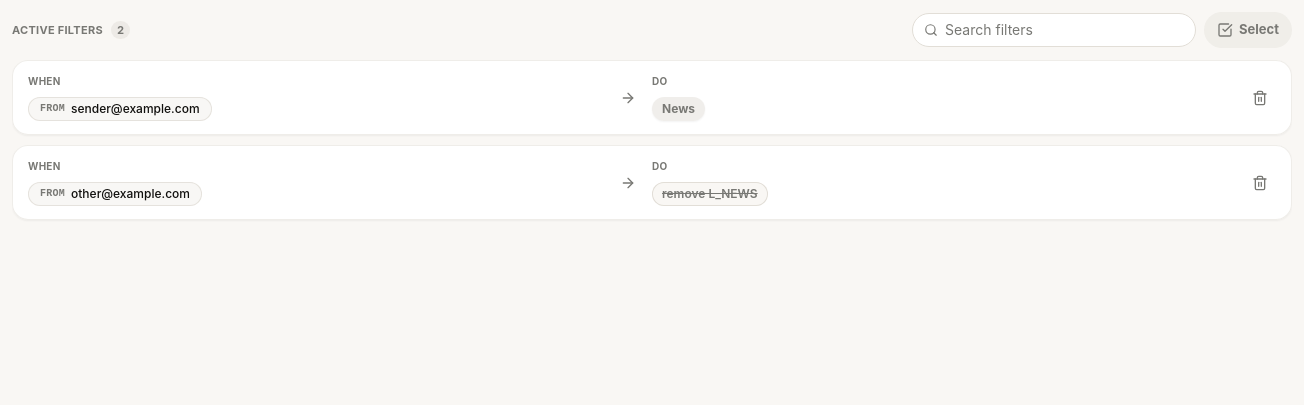
the confirmation step › a selection the algebra rejects can't be confirmed at all
The image size is (1304, 405).
Click the button with aria-label "Enter select mode". click: click(1248, 30)
box: x1=1204 y1=12 x2=1292 y2=48
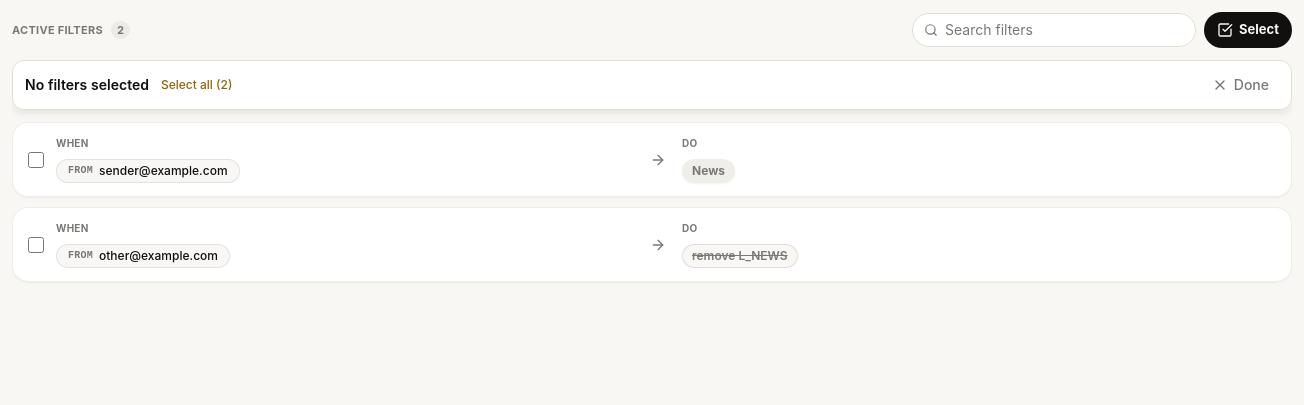
Click the checkbox named "Select filter" in the row of "sender@example.com". click: click(36, 160)
box: x1=28 y1=152 x2=44 y2=168
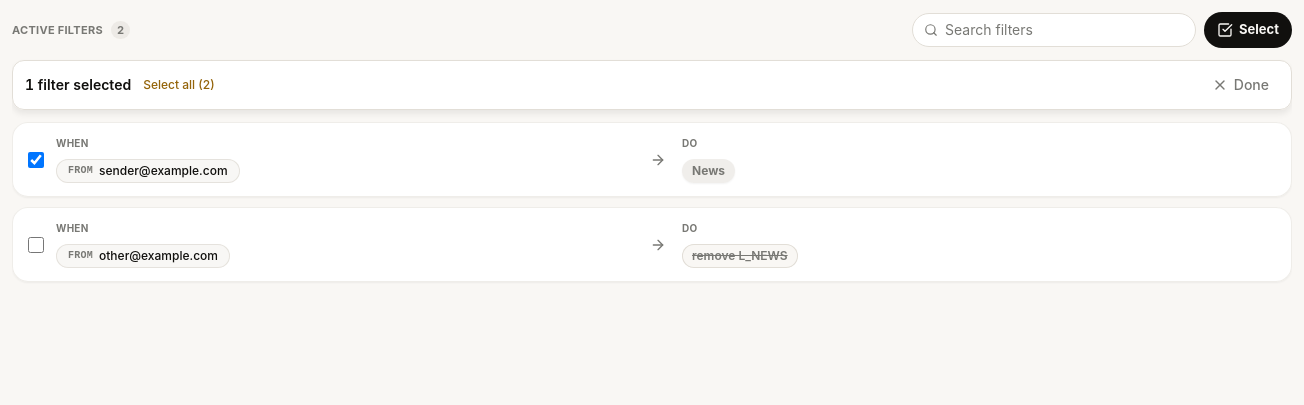
Click the checkbox named "Select filter" in the row of "other@example.com". click: click(36, 244)
box: x1=28 y1=236 x2=44 y2=252
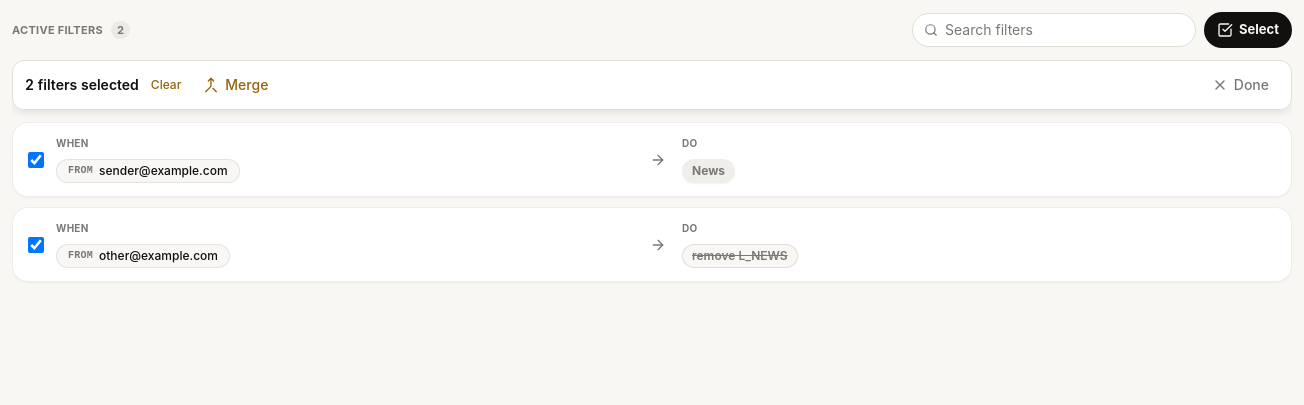
Click the button "Merge". click: click(236, 85)
box: x1=193 y1=69 x2=278 y2=101
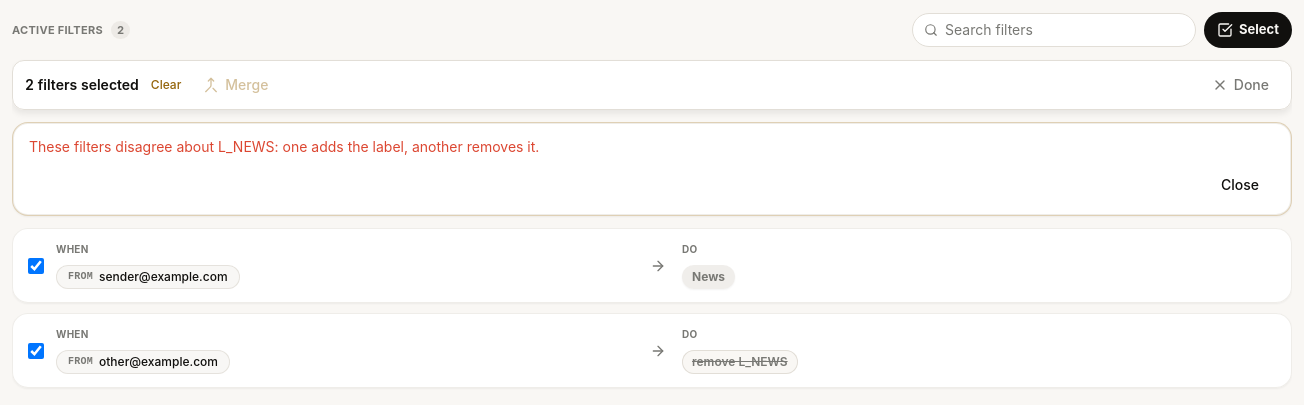
Expected: the text "disagree about L_NEWS" is shown, x1=29 y1=138 x2=539 y2=155
Expected: the button "Close" is shown, x1=1205 y1=169 x2=1275 y2=201
